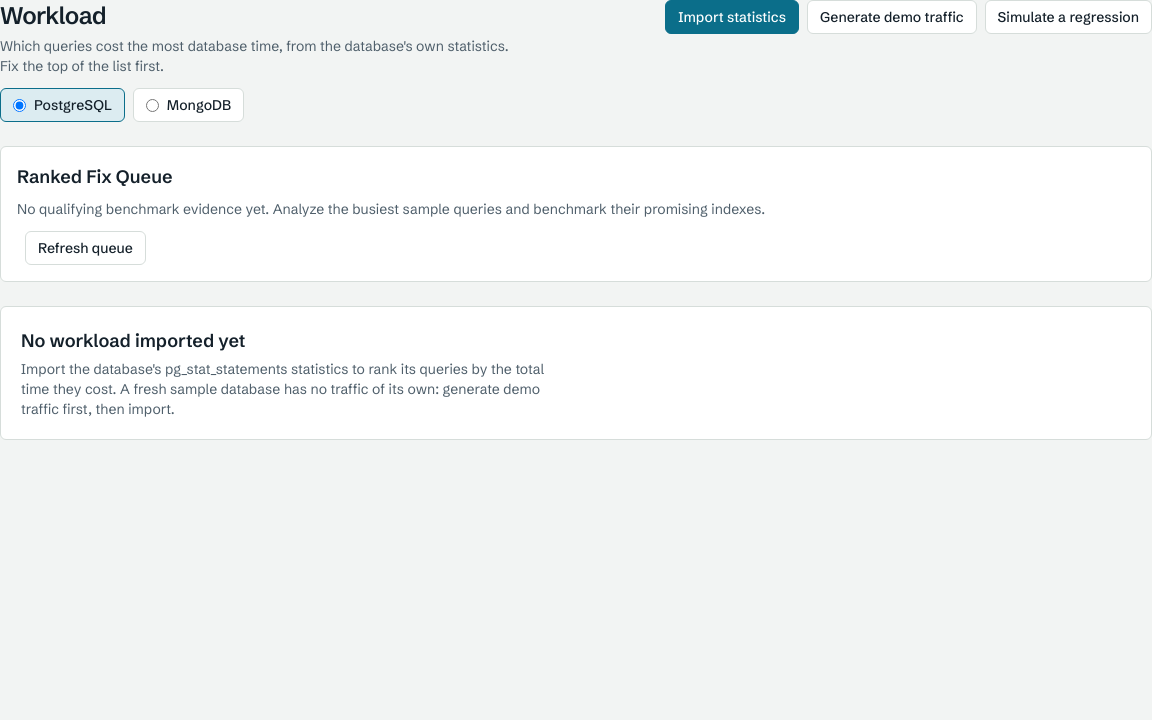
Test: WorkloadDashboard › imports through the API and reloads the dashboard
Click the button "Import statistics": point(732, 17) [665,0,799,34]
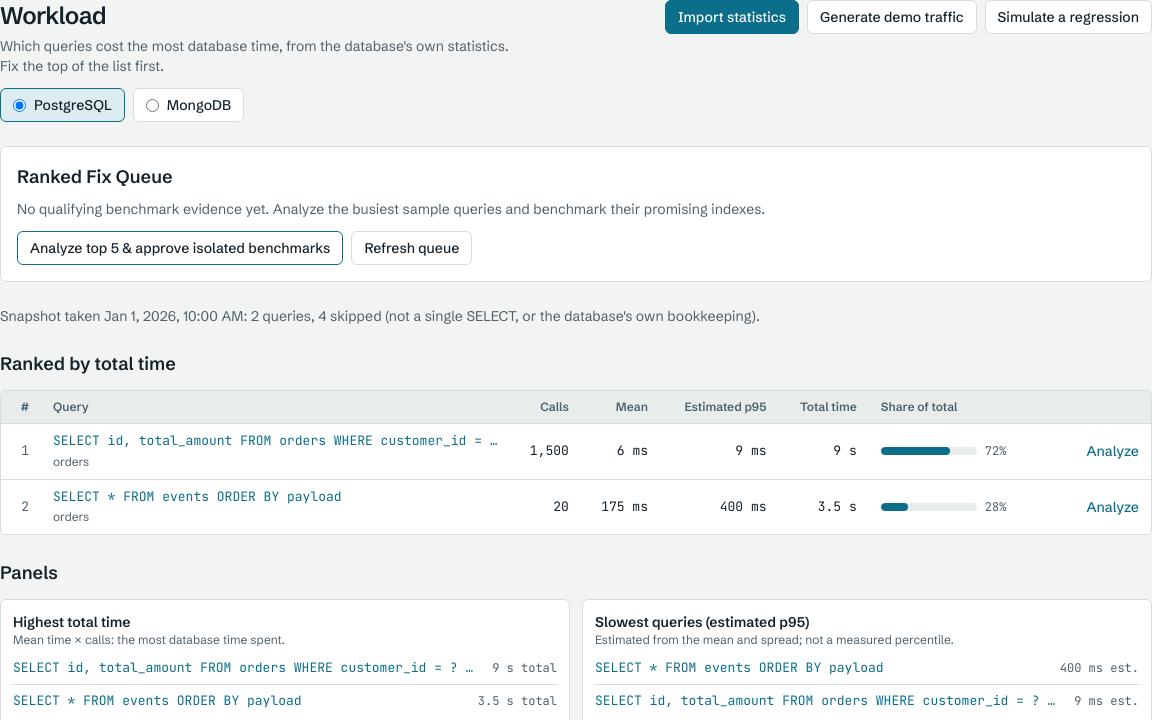
Expected: the table is shown, [1,391,1151,534]
